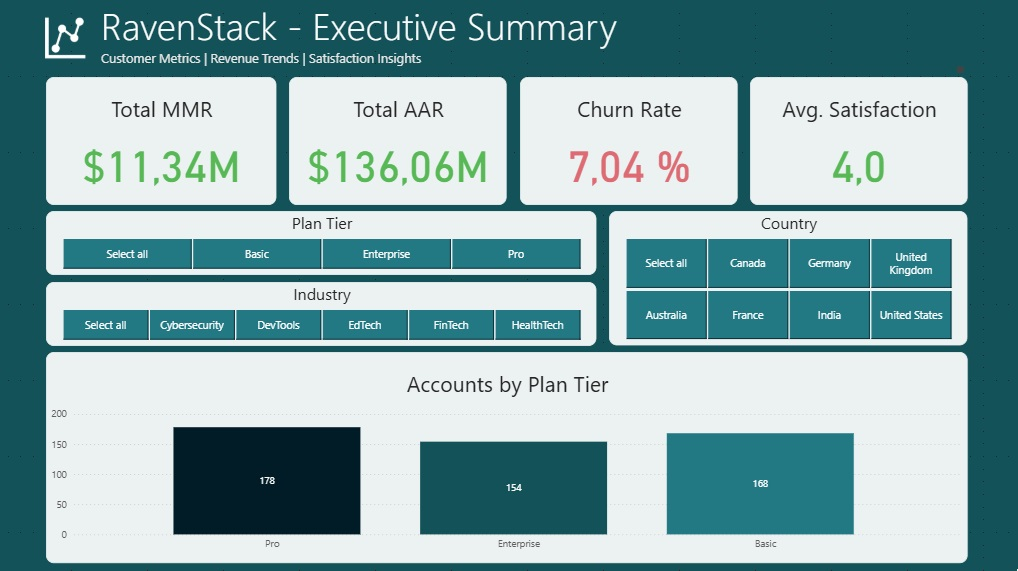

The page's visual inventory and layout, read from the dashboard file:
{"tool":"powerbi","page":{"name":"Exec Summary","canvas":[1280,720],"ordinal":0},"visuals":[{"type":"card","title":"Total MMR","fields":{"Values":["Measures Table.Total MRR"]},"box":[64,96,288,160],"z":0},{"type":"card","title":"Total AAR","fields":{"Values":["Measures Table.Total ARR"]},"box":[368,96,272,160],"z":1000},{"type":"card","title":"Churn Rate","fields":{"Values":["Measures Table.Churn Rate"]},"box":[656,96,272,160],"z":2000},{"type":"card","title":"Avg. Satisfaction","fields":{"Values":["Measures Table.Avg Satisfaction"]},"box":[944,96,272,160],"z":3000},{"type":"clusteredColumnChart","title":"Accounts by Plan Tier","fields":{"Category":["vw_account_summary.plan_tier"],"Y":["CountNonNull(vw_account_summary.account_id)"]},"box":[64,440,1152,264],"z":4000},{"type":"slicer","title":"Plan Tier","fields":{"Values":["vw_account_summary.plan_tier"]},"box":[64,264,688,80],"z":5000},{"type":"slicer","title":"Industry","fields":{"Values":["vw_account_summary.industry"]},"box":[64,352,688,80],"z":6000},{"type":"image","box":[48,8,80,80],"z":7000},{"type":"textbox","title":"RavenStack - Executive Summary","box":[128,0,1088,96],"z":8000},{"type":"slicer","title":"Country","fields":{"Values":["country_mapping.Country Name"]},"box":[768,264,448,168],"z":9000}]}

Visuals, with their boxes in screenshot pixels (x1, y1, x2, y2), scaled from the page's 1280x720 canvas onto the 1018x571 screenshot:
"Total MMR" card: x1=51, y1=76, x2=280, y2=203
"Total AAR" card: x1=293, y1=76, x2=509, y2=203
"Churn Rate" card: x1=522, y1=76, x2=738, y2=203
"Avg. Satisfaction" card: x1=751, y1=76, x2=967, y2=203
"Accounts by Plan Tier" clusteredColumnChart: x1=51, y1=349, x2=967, y2=558
"Plan Tier" slicer: x1=51, y1=209, x2=598, y2=273
"Industry" slicer: x1=51, y1=279, x2=598, y2=343
image: x1=38, y1=6, x2=102, y2=70
"RavenStack - Executive Summary" textbox: x1=102, y1=0, x2=967, y2=76
"Country" slicer: x1=611, y1=209, x2=967, y2=343
